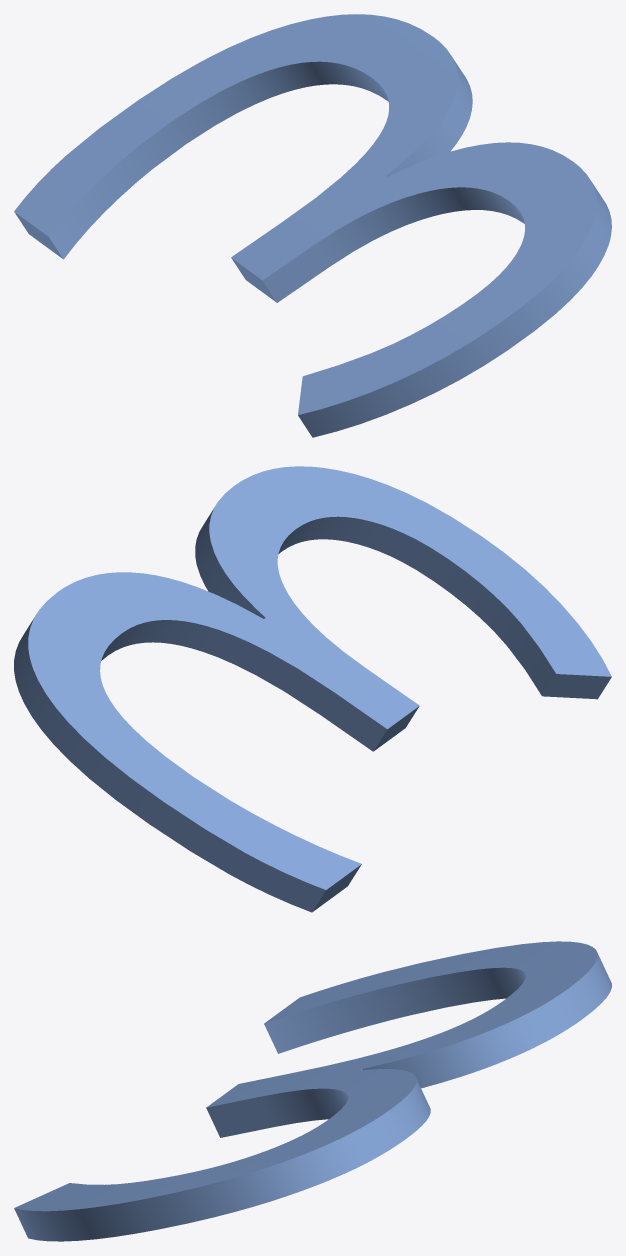
Rendered from New_Number_3.gltf.
3 views of the same model, one above another, from view 1: azimuth 30°, elevation 25°; view 2: azimuth 150°, elevation 25°; view 3: azimuth 330°, elevation 25° (orthographic). The views are drawn at different scales.
Parts seen in each view (by area): view 1: Part 318; view 2: Part 318; view 3: Part 318.
Part boxes in pixels (bbox=[...]): Part 318: bbox=[14, 14, 611, 437]; Part 318: bbox=[14, 466, 611, 912]; Part 318: bbox=[14, 941, 611, 1241].
Bounding box in the file's own units: 0.0032 × 0.00151 × 0.00519.
